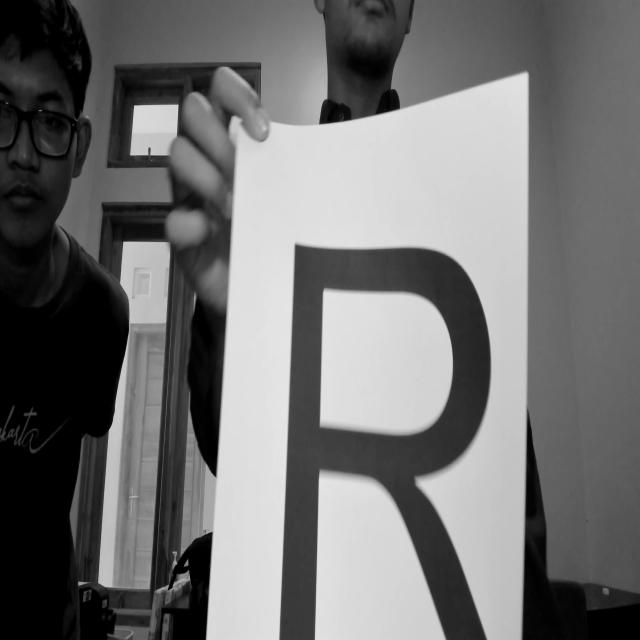r: (266, 209, 515, 640)
